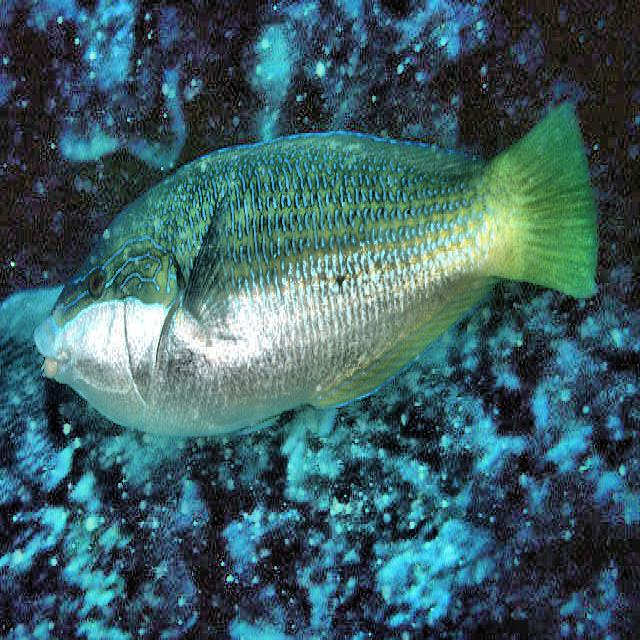fish: (32, 100, 598, 455)
